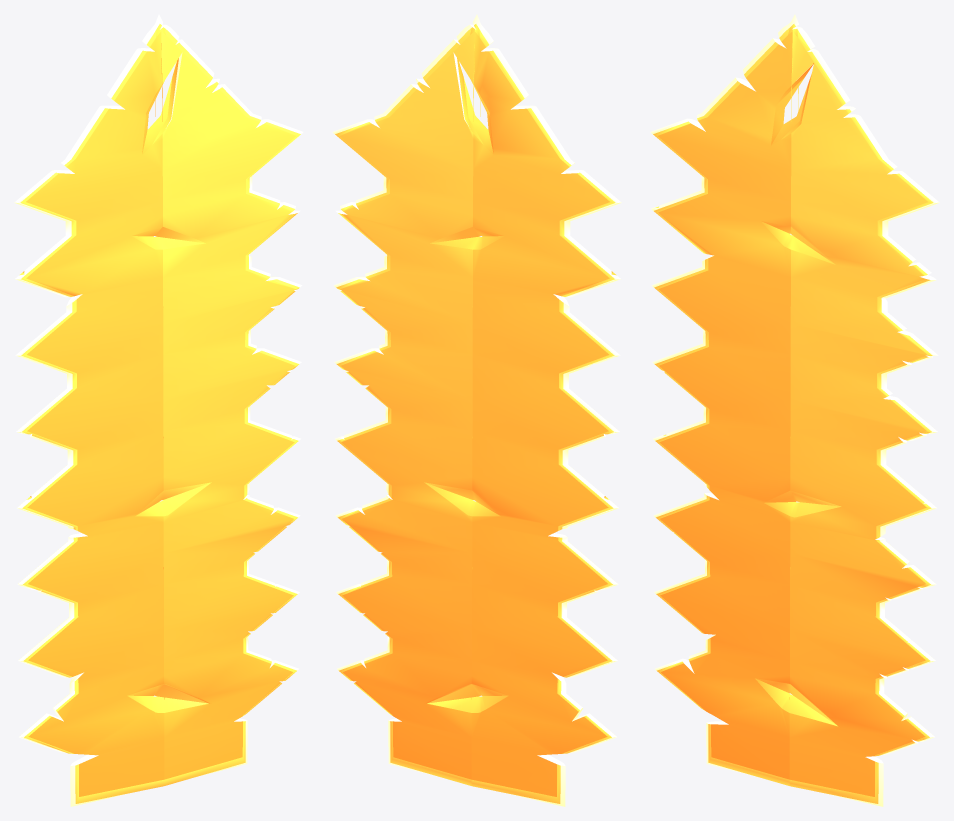
Rendered from gold_blade_scratched_051.glb.
3 views of the same model, side by side, from view 1: azimuth 30°, elevation 25°; view 2: azimuth 150°, elevation 25°; view 3: azimuth 330°, elevation 25° (orthographic).
Parts seen in each view (by area): view 1: gold_blade_scratched.051; view 2: gold_blade_scratched.051; view 3: gold_blade_scratched.051.
Part boxes in pixels (x1,y1,x2,y2): gold_blade_scratched.051: (14,14,303,806); gold_blade_scratched.051: (332,14,621,806); gold_blade_scratched.051: (650,14,939,806).
Bounding box in the file's own units: 4.48 × 11.41 × 0.2879.
1 material, 1 textured.
